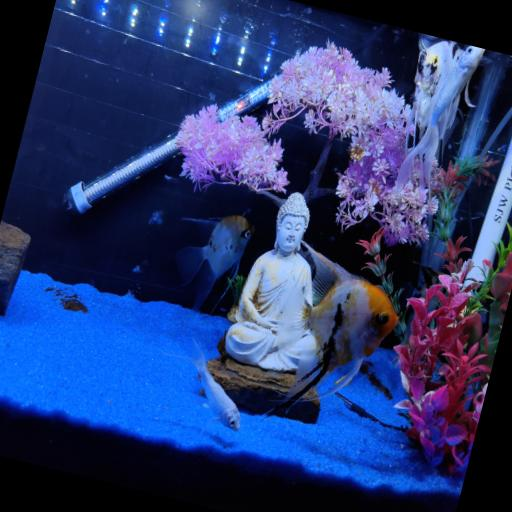Fish: (276, 242, 398, 407), (396, 45, 484, 190), (175, 216, 254, 311), (406, 41, 459, 148), (181, 340, 240, 431)
